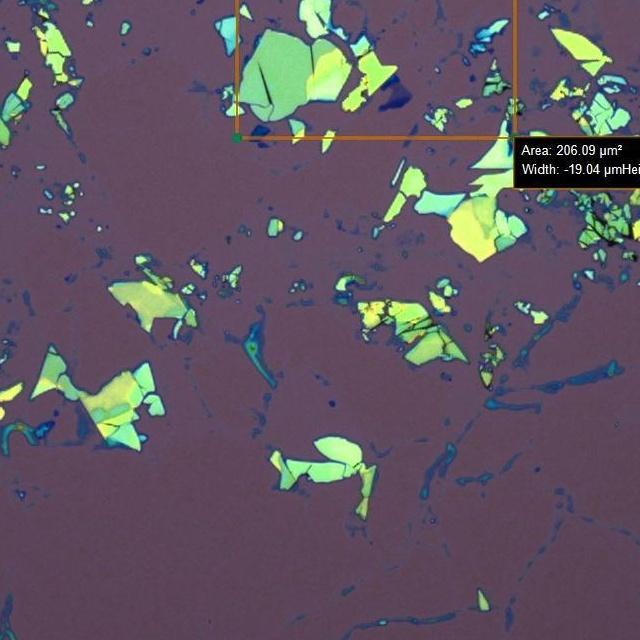monolayer-eWW4: (388, 83, 410, 100)
